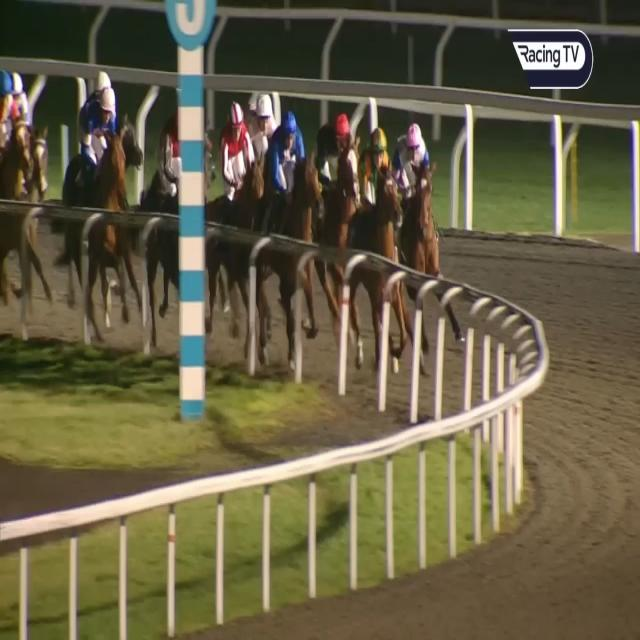horses-racing: (75, 83, 136, 280), (266, 109, 324, 298), (151, 106, 210, 286), (356, 122, 400, 330), (394, 114, 436, 331), (216, 110, 266, 284), (326, 106, 356, 300), (0, 74, 32, 237), (8, 70, 37, 162), (247, 91, 278, 172)
